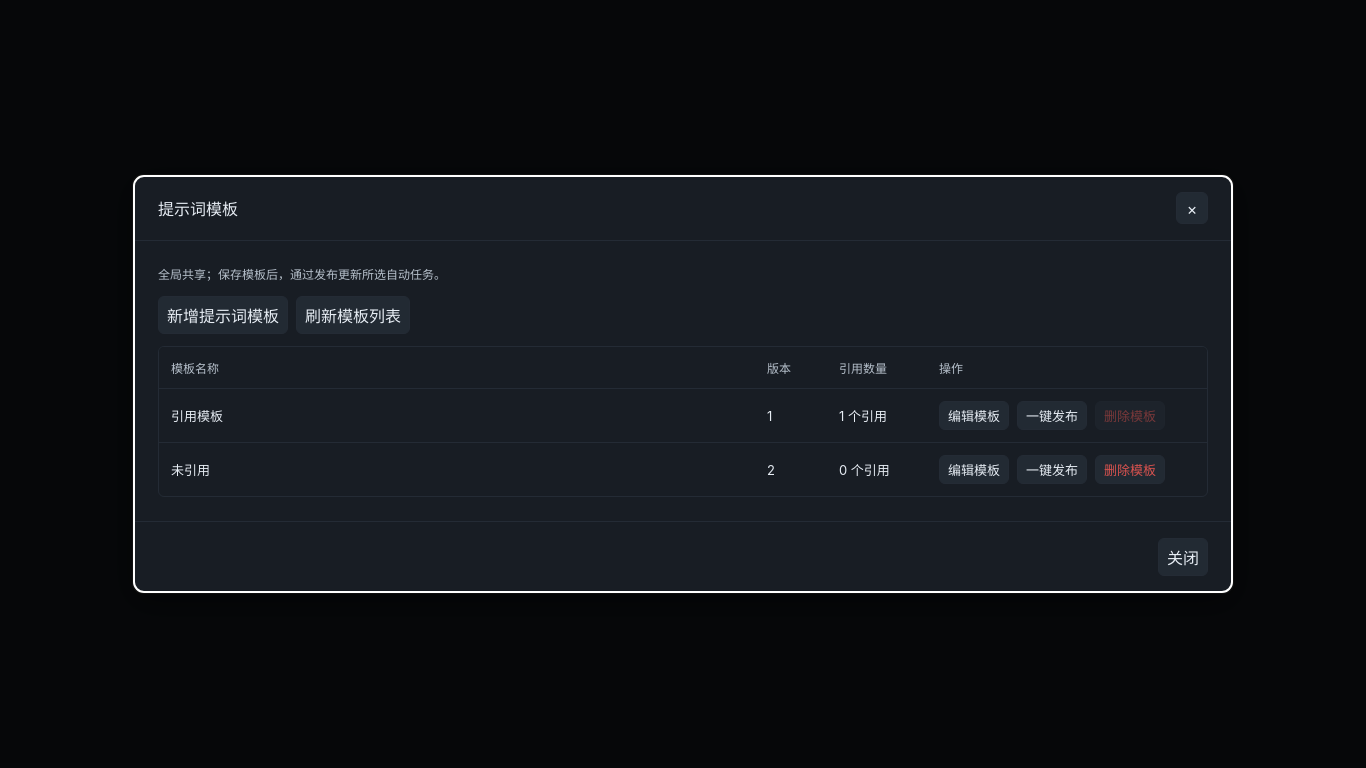
confirms deletion in a dialog and disables referenced templates
Expected: the button "删除模板" in the row of "引用模板" is disabled, [1095, 401, 1165, 430]
Click the button "删除模板" in the row of "未引用".
click(1130, 470)  # box [1095, 455, 1165, 484]
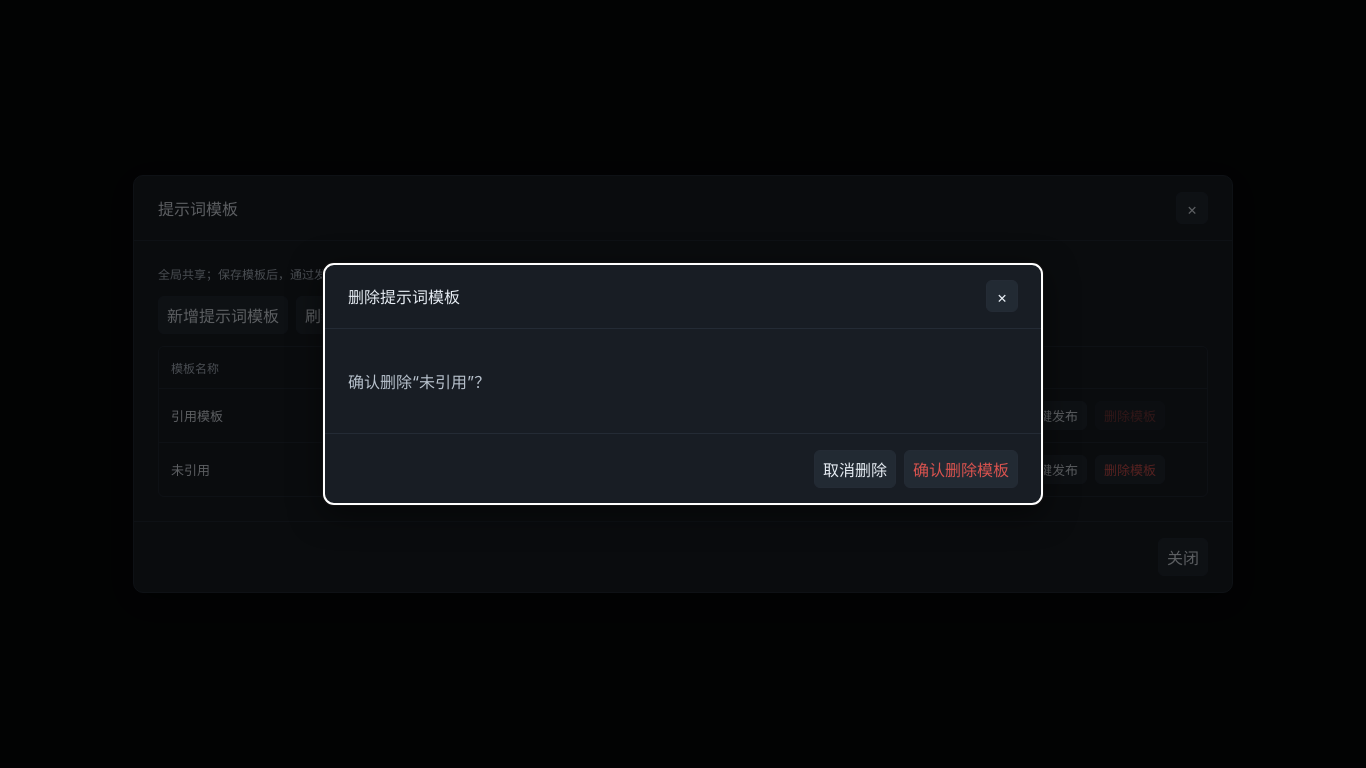
Click the button "取消删除".
click(855, 469)  # box [814, 450, 896, 488]
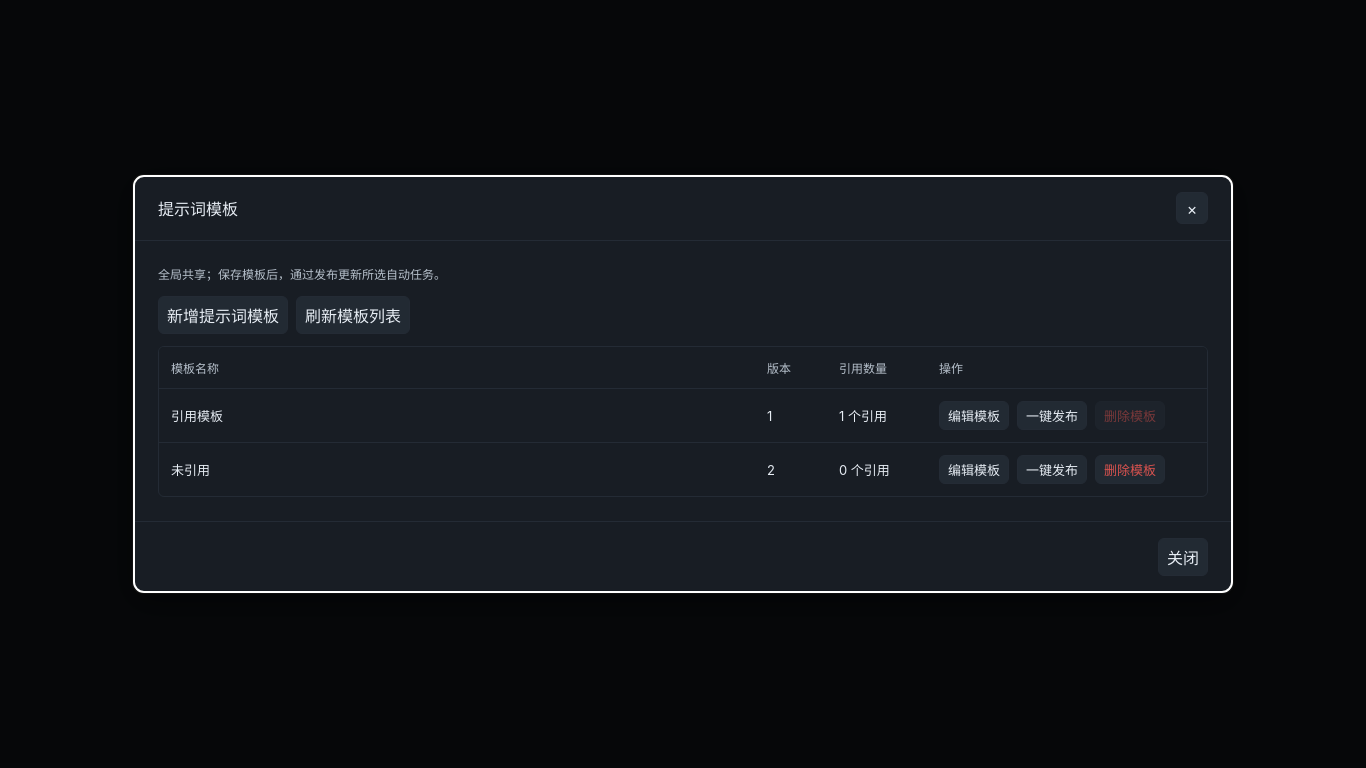
Click the button "删除模板" in the row of "未引用".
click(1130, 470)  # box [1095, 455, 1165, 484]
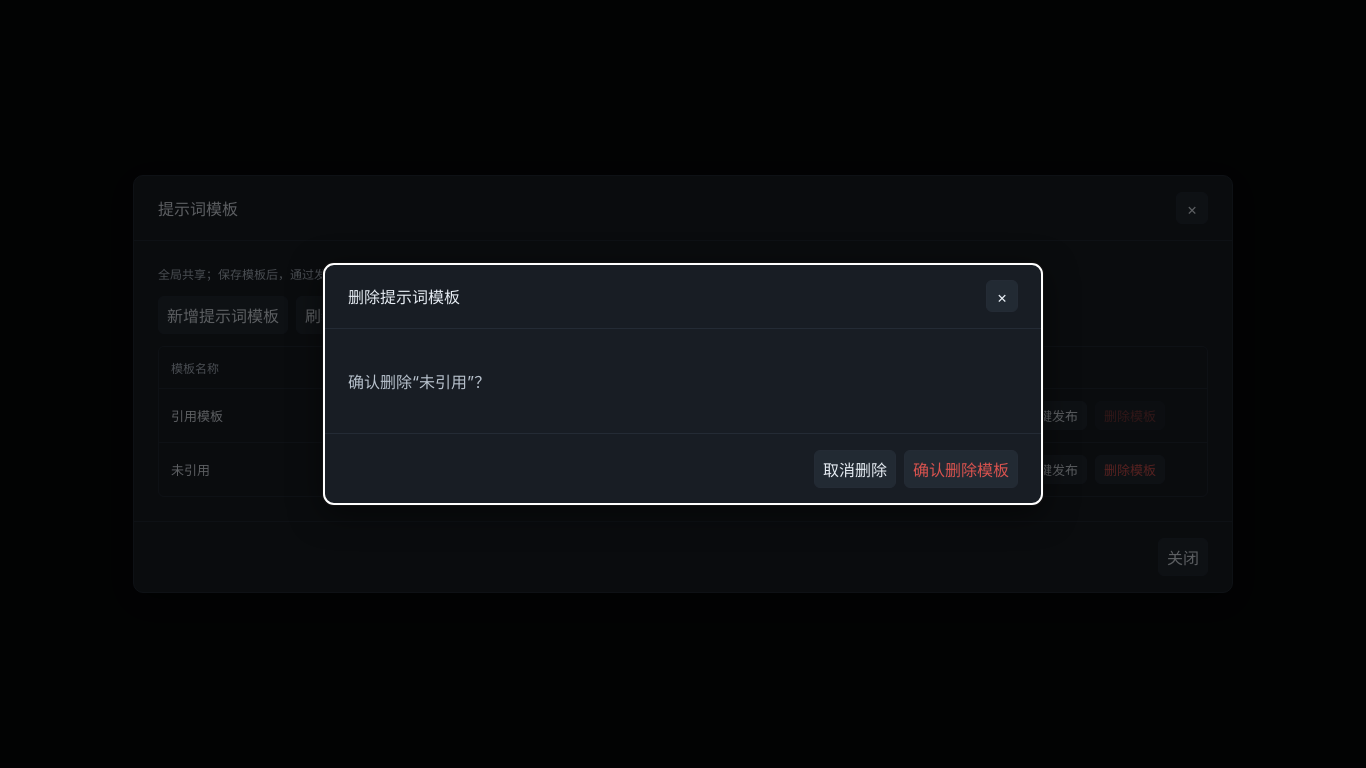
Click the button "确认删除模板".
click(961, 469)  # box [904, 450, 1018, 488]
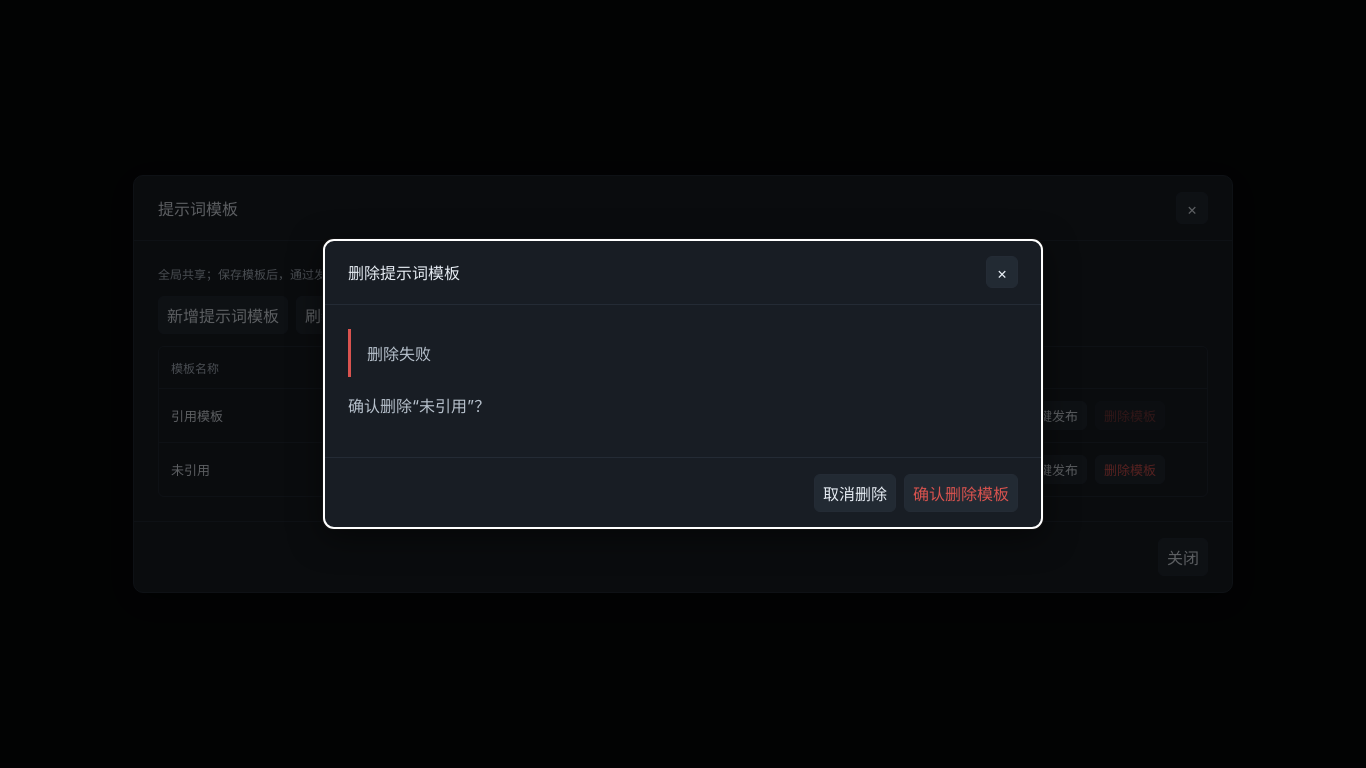
Expected: the message reads "删除失败", [367, 344, 431, 364]
Click the button "确认删除模板".
click(961, 493)  # box [904, 474, 1018, 512]
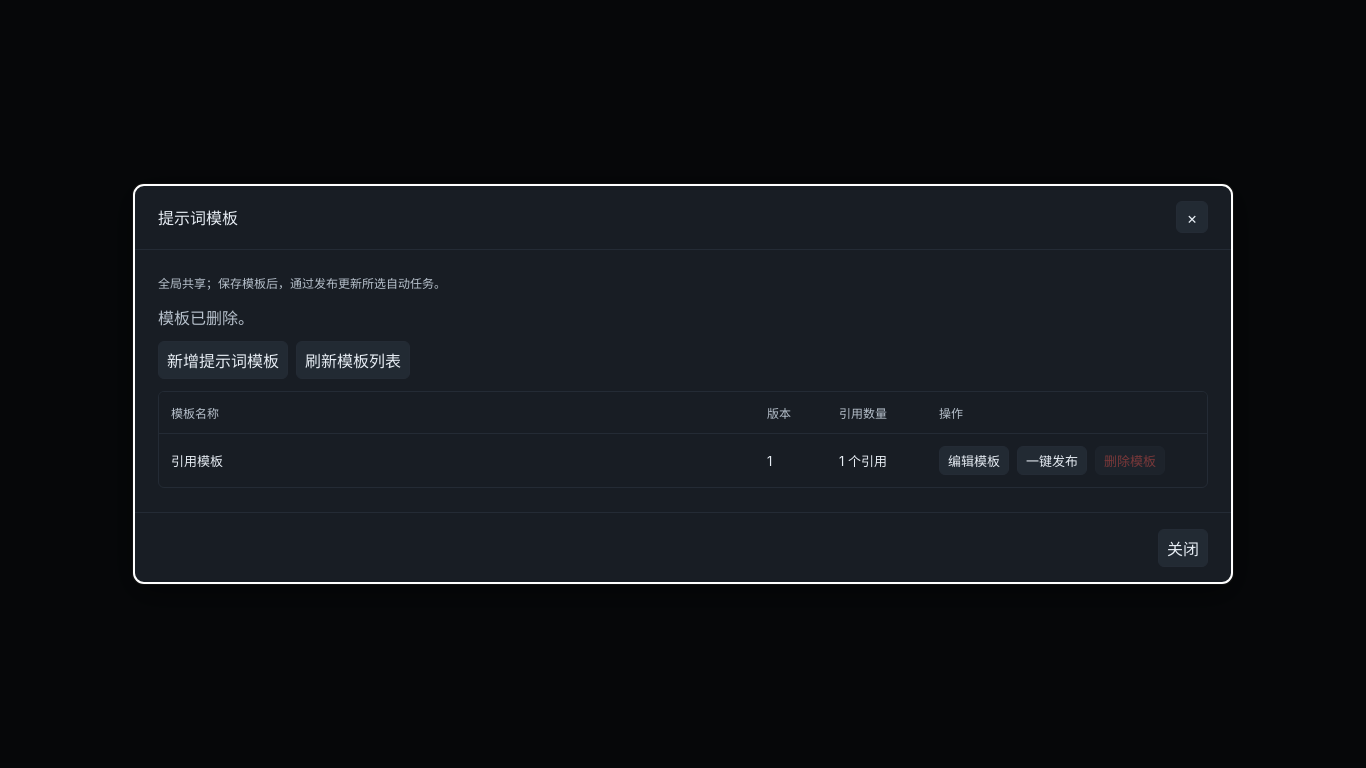
Expected: the message "模板已删除。" is shown, [158, 308, 254, 328]
Expected: the heading "删除提示词模板" is gone
